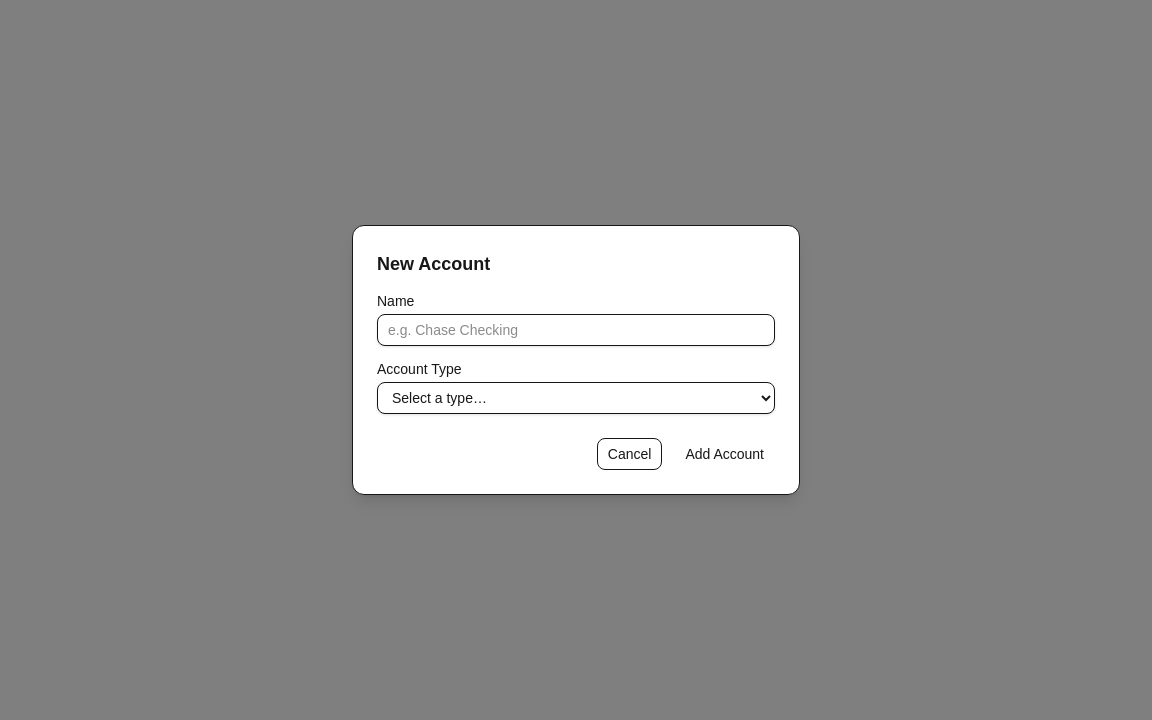
Test: CreateAccountDialog integration › Submitting persists the account via the service layer › shows target float error when submitting with a non-positive float
The image size is (1152, 720).
Type "Checking" into the field labelled "Name". click: (576,330)
box: [377, 314, 775, 346]
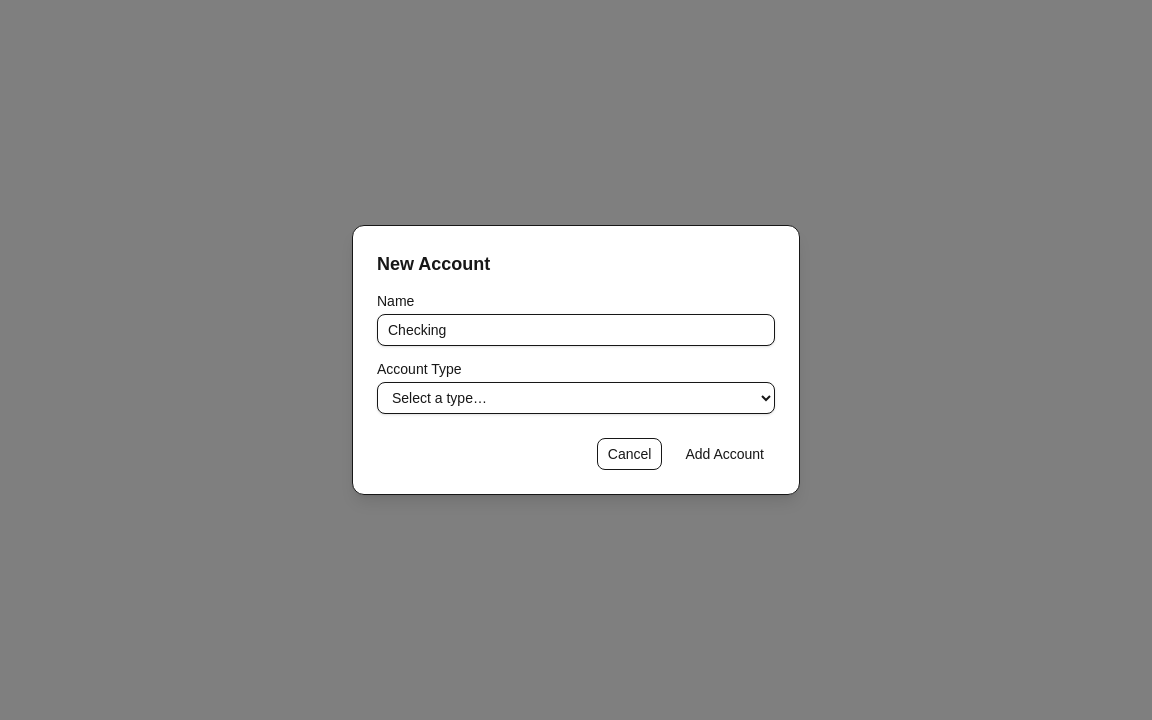
Select "Long-term (e.g. money market)" in the dropdown labelled "Account Type". click: (576,398)
box: [377, 382, 775, 414]
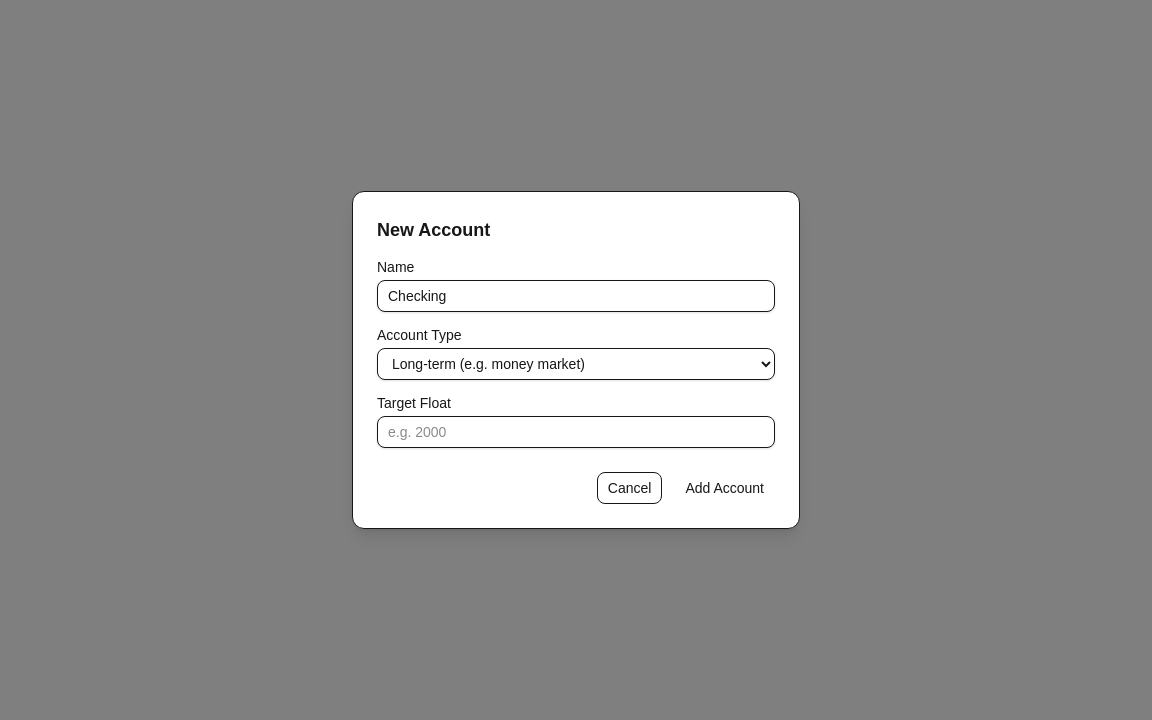
Type "-500" into the number field labelled "Target Float". click: (576,432)
box: [377, 416, 775, 448]
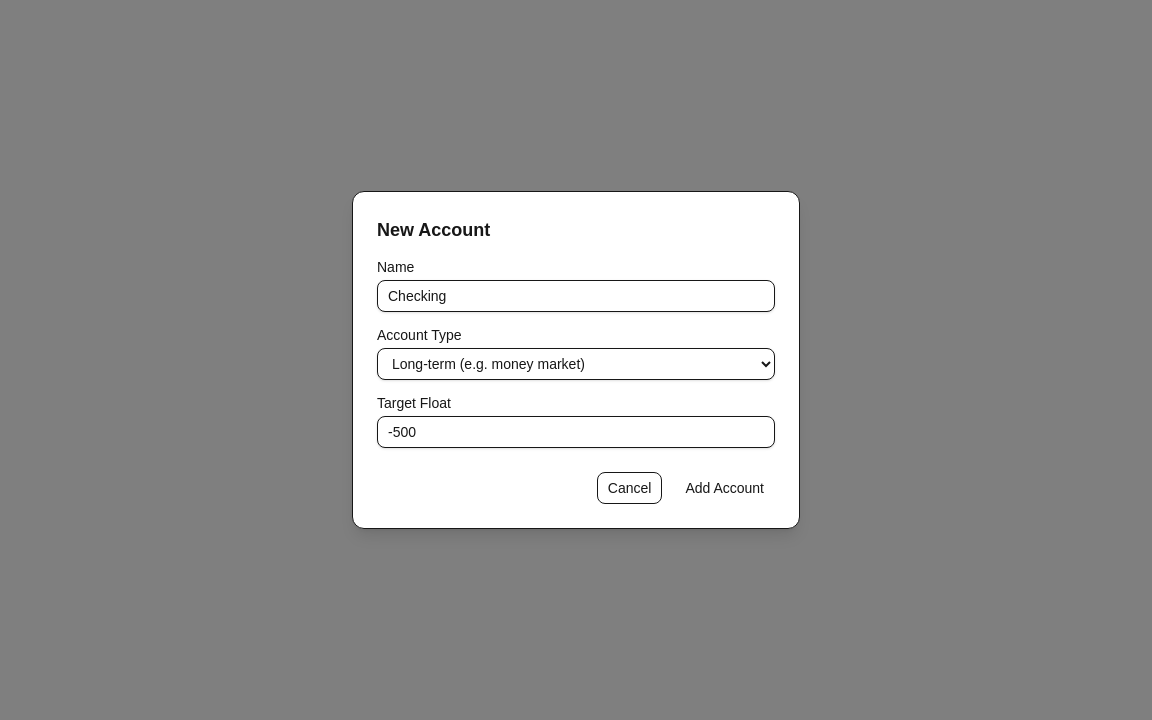
Submit the form, box [377, 260, 775, 504]
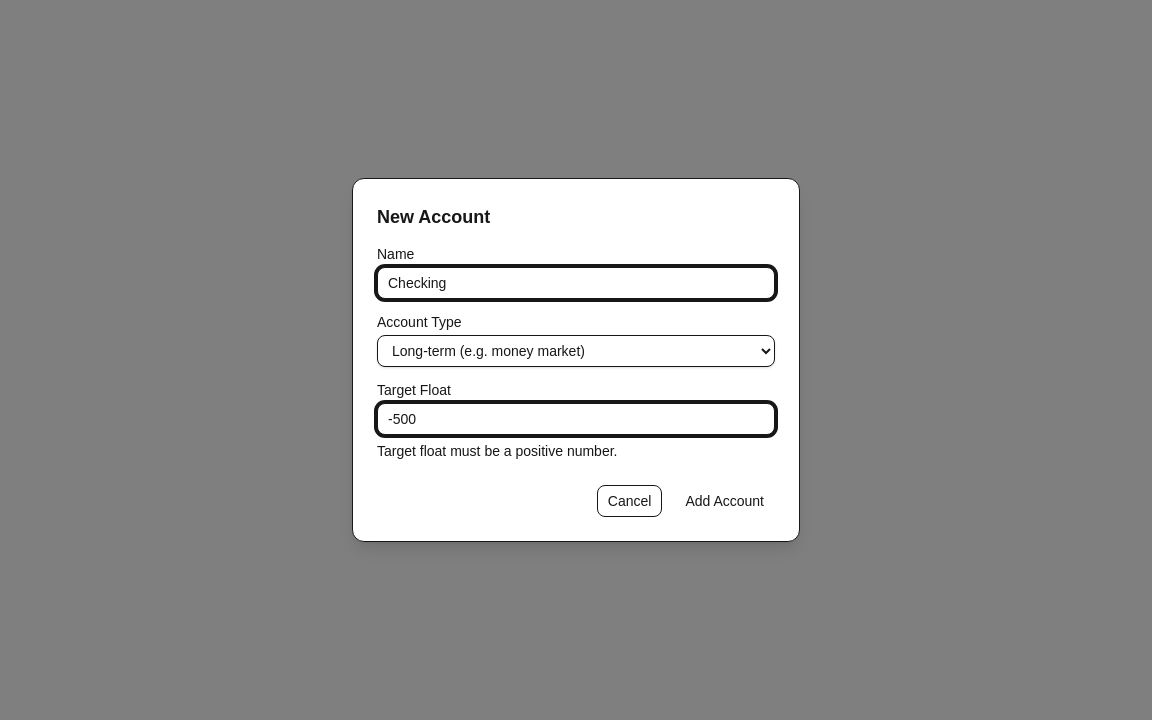
Check: the text "Target float must be a positive number." is shown, box [377, 443, 618, 459]
